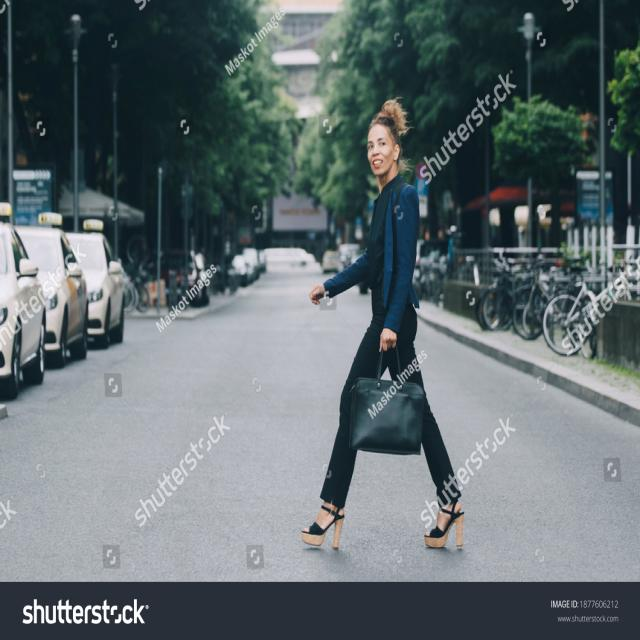Person: (301, 100, 464, 552)
